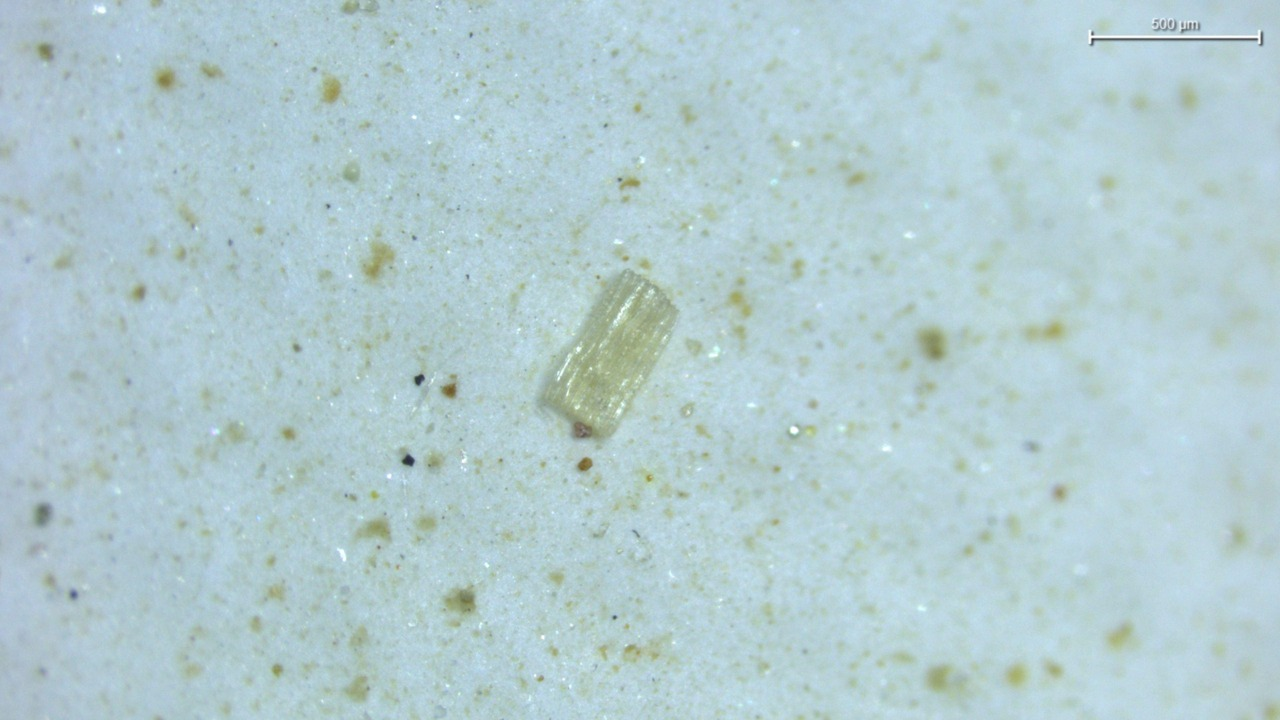microplastic_fragment: (541, 269, 677, 438)
